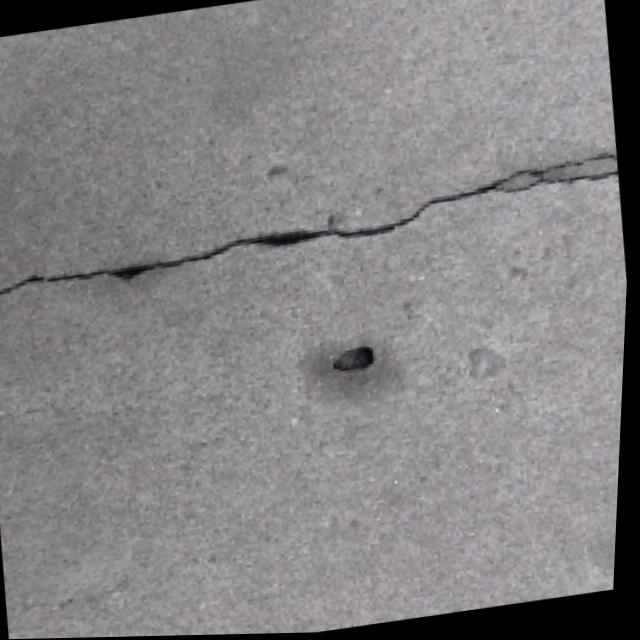Crack: (0, 107, 634, 367)
